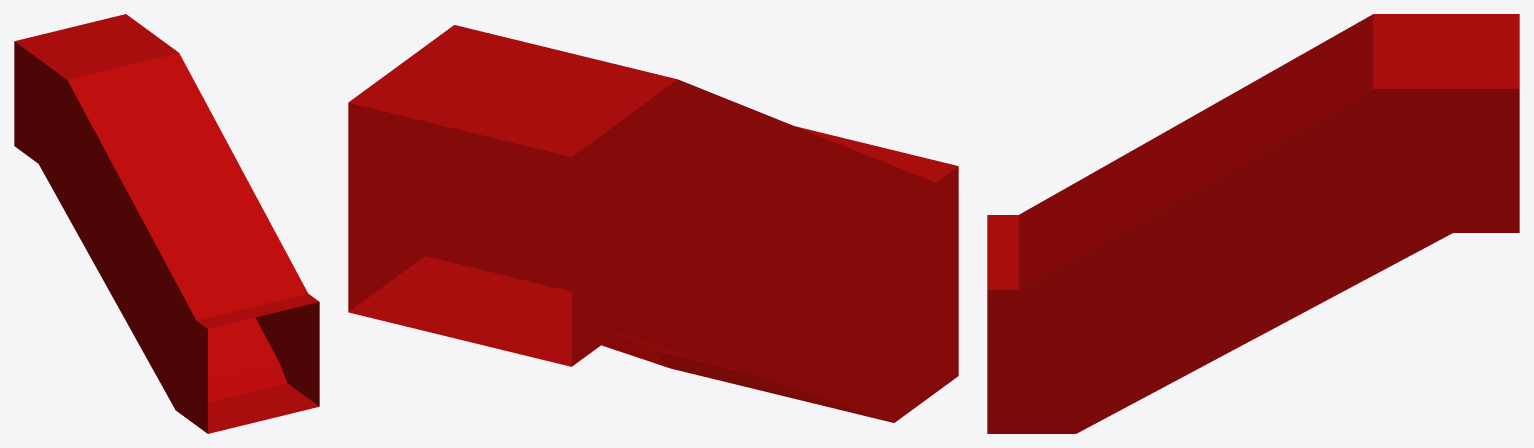
File: coll_hallway_stairwell.fbx
The picture shows the model from 3 angles, left to right: view 1: azimuth 30°, elevation 25°; view 2: azimuth 150°, elevation 25°; view 3: azimuth 270°, elevation 25°; orthographic projection. The views are drawn at different scales.
Visible parts, largest first — view 1: coll_hallway_stairwell; view 2: coll_hallway_stairwell; view 3: coll_hallway_stairwell.
Part boxes in pixels (<box>): coll_hallway_stairwell: <box>14,14,319,433</box>; coll_hallway_stairwell: <box>348,25,958,422</box>; coll_hallway_stairwell: <box>987,14,1519,433</box>.
Size of the model in its own units: 8 by 17.17 by 24.
